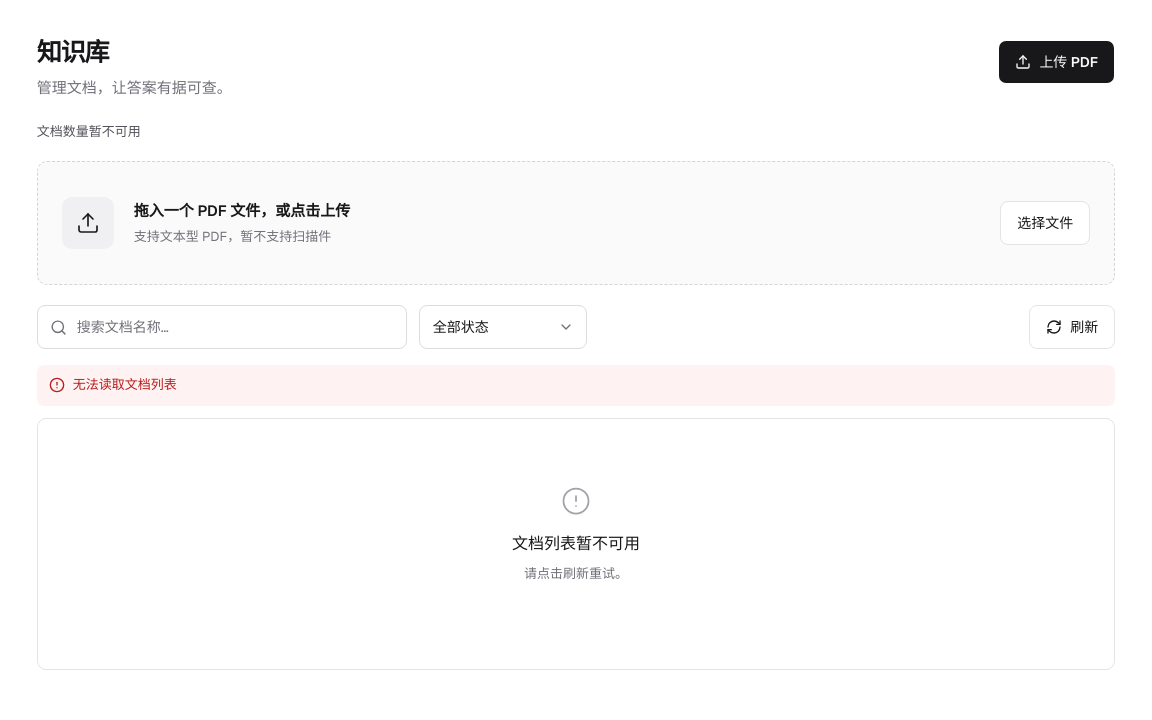
Test: Nova知识库文档管理 › 空库与无匹配区分，首次读取失败也能恢复
Expected: the message "无法读取文档列表" is shown, left=37, top=365, right=1115, bottom=406
Click the button "刷新" at (1072, 327), box left=1029, top=305, right=1115, bottom=349
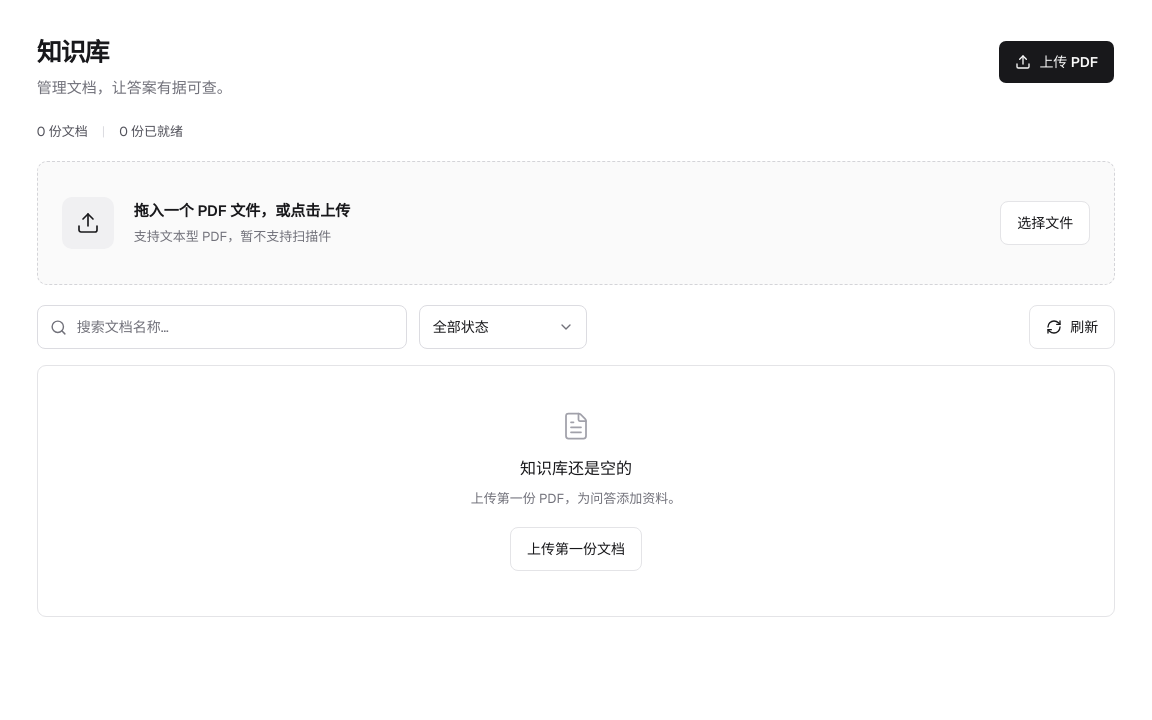
Result: the text "知识库还是空的" is shown at left=520, top=457, right=632, bottom=481
